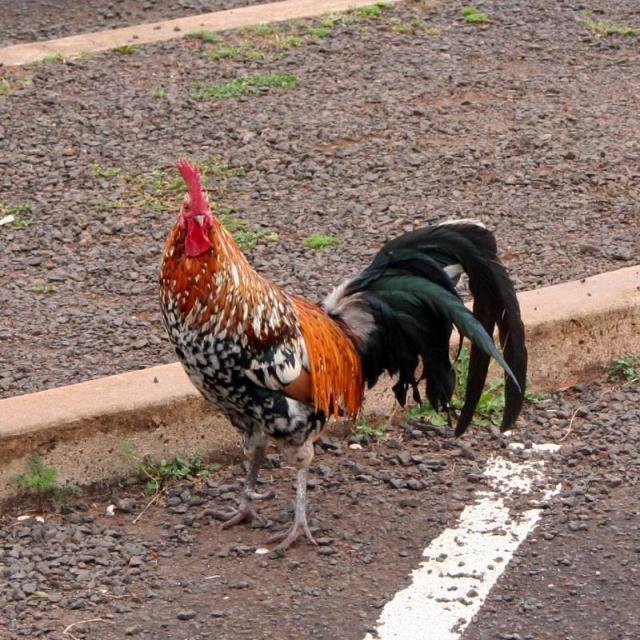Chicken: (169, 164, 469, 544)
